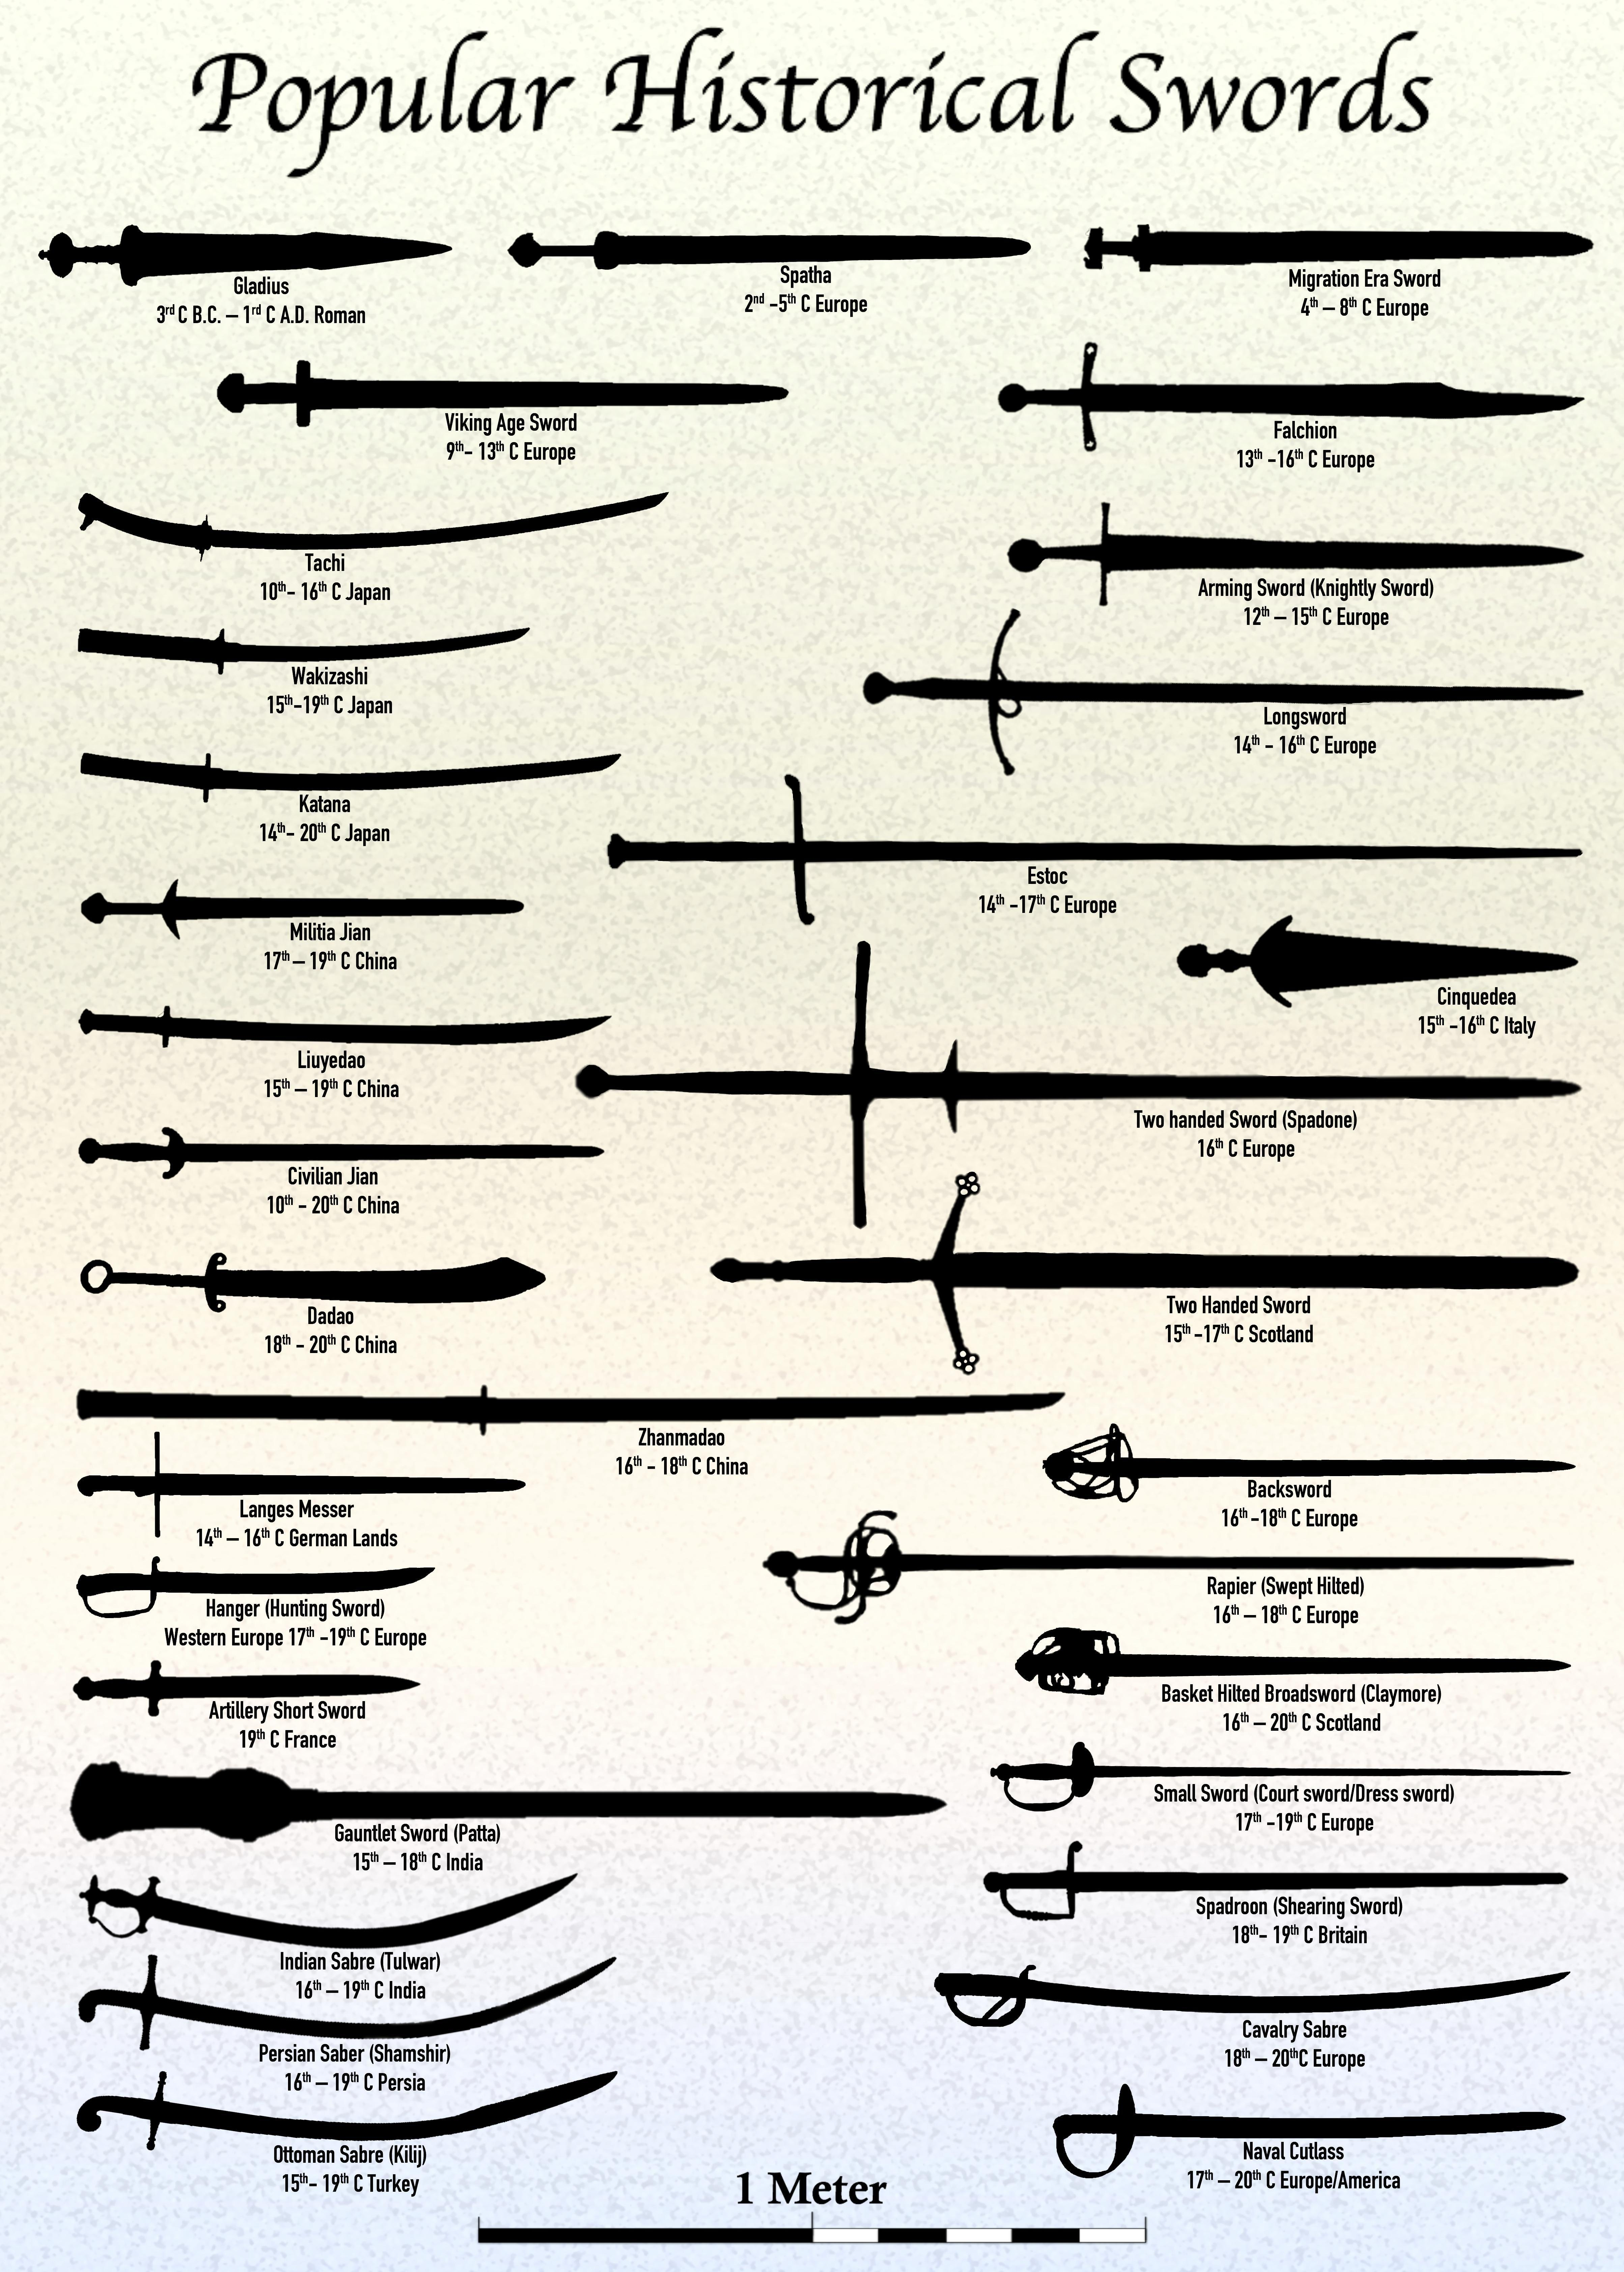espada: (661, 988, 1612, 1177), (701, 1184, 1585, 1369), (895, 604, 1624, 763), (691, 789, 1624, 907), (722, 1494, 1568, 1608), (37, 1743, 965, 1845), (62, 1349, 1090, 1441), (510, 169, 1039, 323), (67, 466, 715, 590), (932, 1915, 1564, 2030), (988, 1592, 1561, 1703), (216, 341, 833, 441), (1039, 341, 1552, 455), (21, 169, 462, 300), (1160, 880, 1578, 1016), (961, 1827, 1571, 1919), (1035, 1406, 1578, 1508), (1090, 195, 1585, 297), (1035, 517, 1624, 594), (91, 975, 634, 1056), (62, 1875, 624, 1952), (981, 1740, 1599, 1808), (67, 2077, 657, 2145), (988, 2095, 1555, 2165), (74, 1119, 576, 1197), (67, 1980, 675, 2044), (74, 1437, 520, 1518), (84, 854, 520, 935), (62, 742, 606, 803), (88, 624, 561, 689), (54, 1566, 466, 1611), (70, 1669, 482, 1713)
facao: (40, 1211, 561, 1318)
